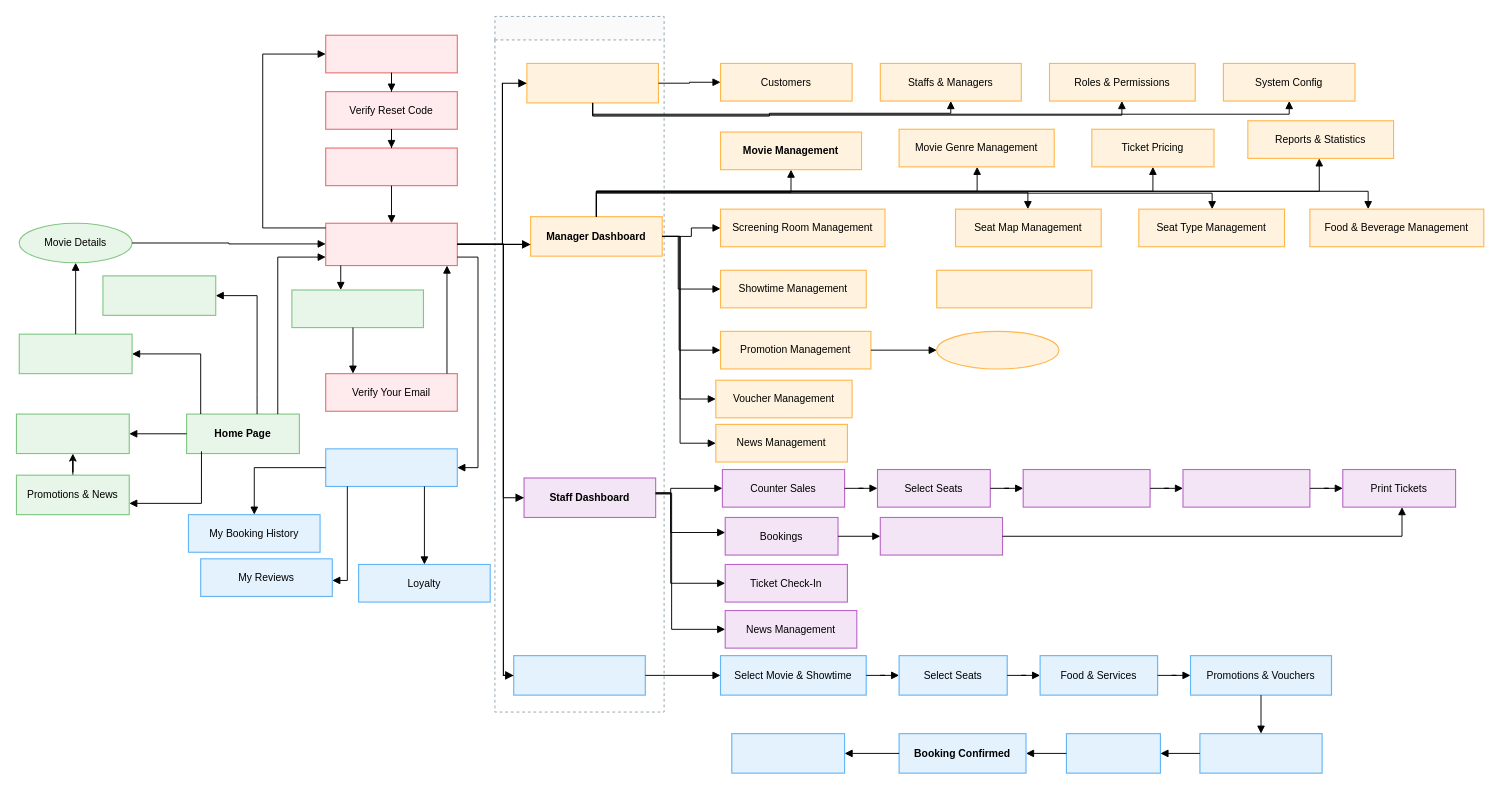
This 1501x791 diagram has some shape labels left out. Each missing label, with the box of its shape:
Admin Dashboard: (526, 62, 659, 103)
Booking Details: (879, 516, 1003, 555)
Counter Payment: (1182, 468, 1310, 507)
Create Account: (291, 289, 424, 328)
Create New Password: (325, 147, 457, 186)
Create Room Schedule: (936, 269, 1092, 308)
Customer Booking: (513, 655, 645, 695)
Digital Tickets: (731, 733, 845, 773)
Food & Beverage: (1022, 468, 1150, 507)
Forgot Password?: (325, 34, 457, 73)
Movies: (18, 333, 132, 374)
My Profile: (325, 448, 457, 487)
Payment: (1065, 733, 1161, 773)
Policies: (15, 413, 129, 454)
Post-Login Role Dashboards: (494, 16, 664, 712)
Promotion Detail: (936, 330, 1059, 369)
Secure Checkout: (1199, 733, 1322, 773)
Showtimes: (102, 275, 216, 315)
Sign In: (325, 222, 457, 266)
